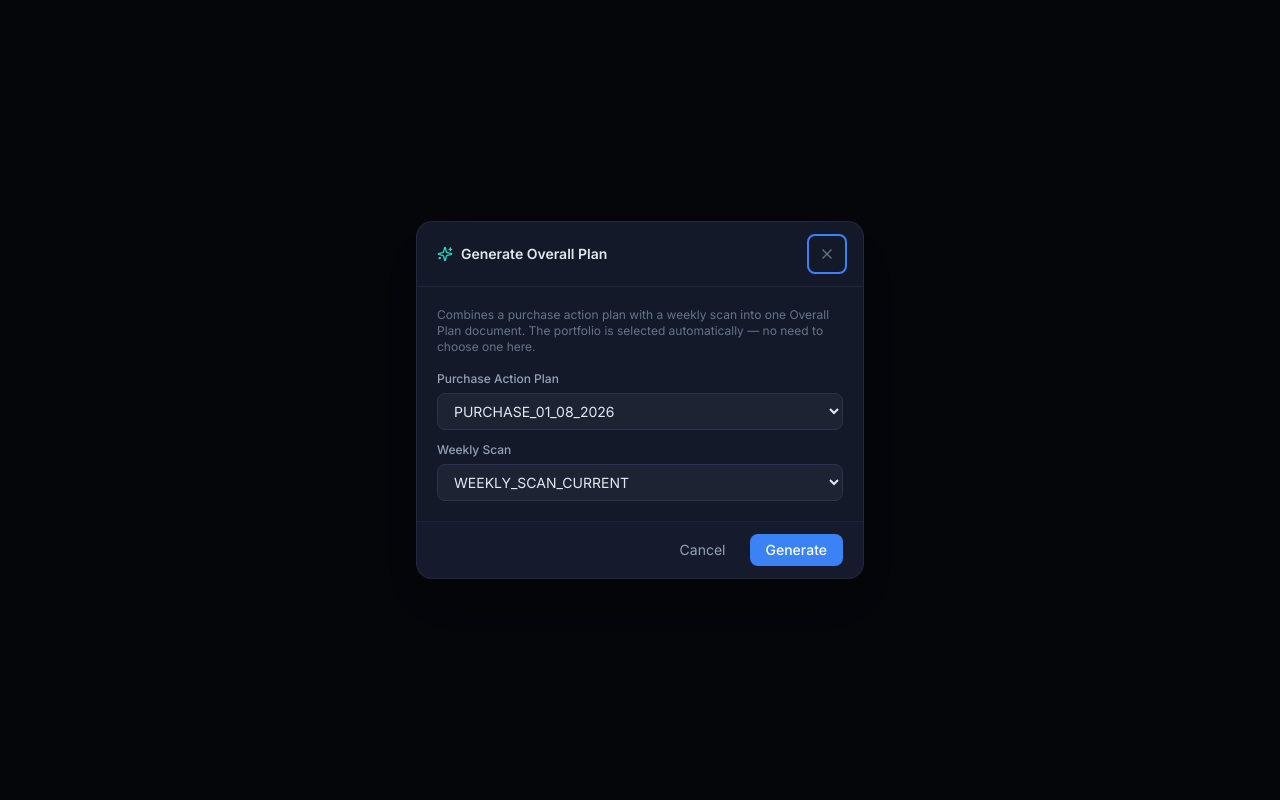
Test: GenerateOverallPlanModal — error responses › renders "Purchase plan not found" inline and keeps the modal open
Click the button "Generate".
click(796, 550)  # box [750,534,843,566]
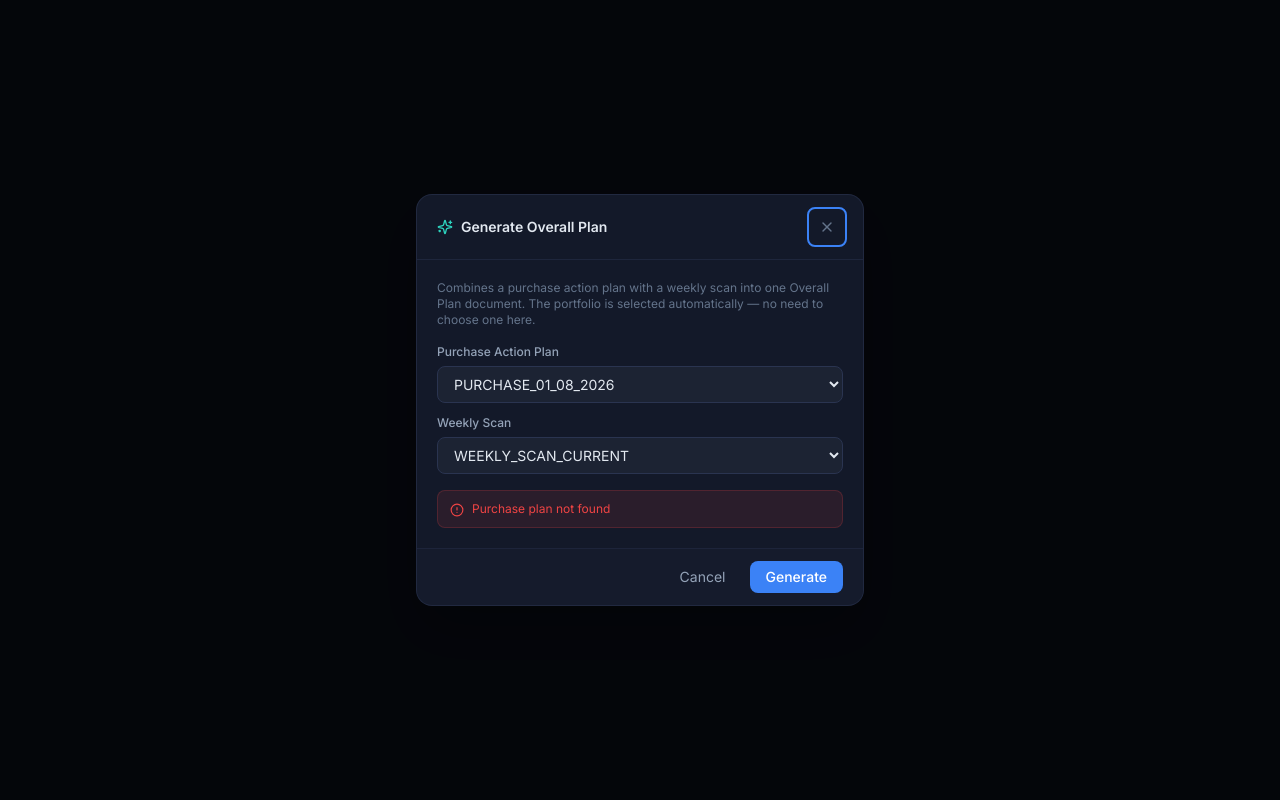
Expected: the dropdown labelled "Purchase Action Plan" is enabled, [437,366,843,403]
Expected: the text "Purchase plan not found" is shown, [437,490,843,528]
